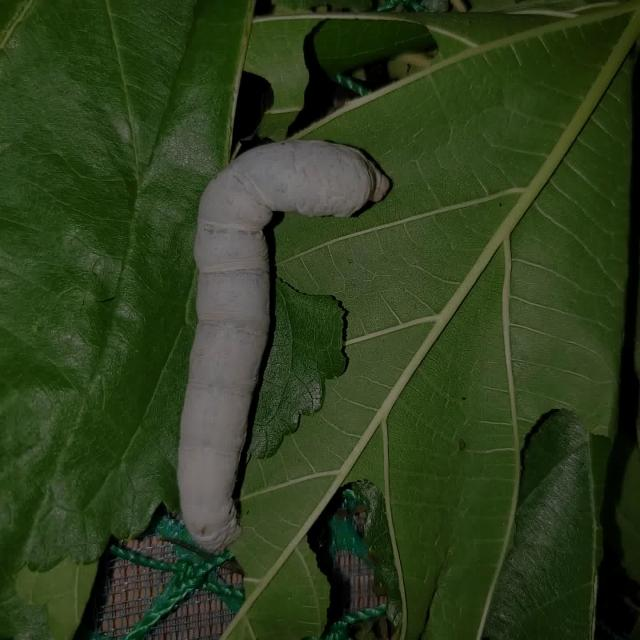Healthy: (152, 99, 414, 562)
